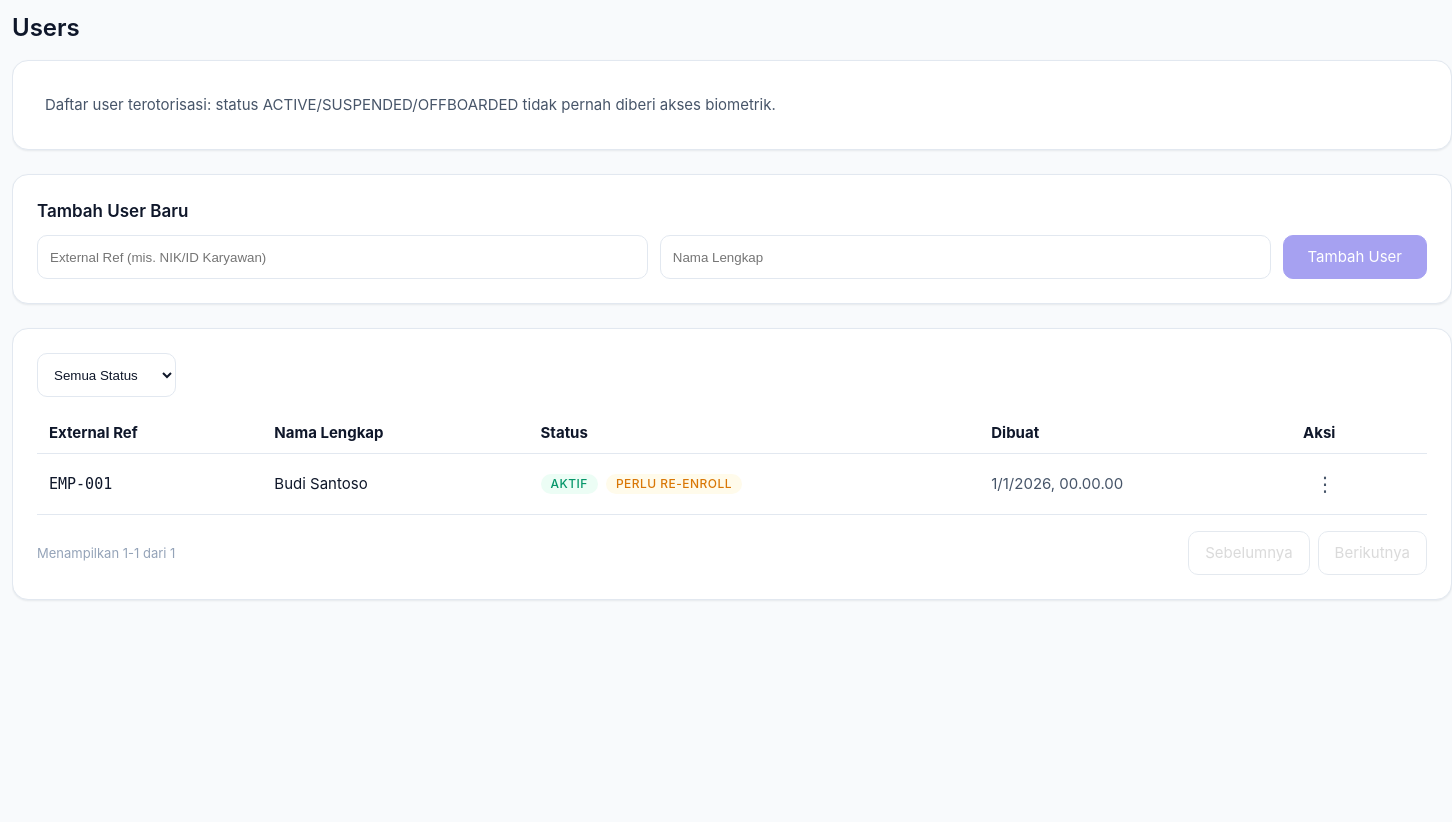
it: UsersPage — reenroll_due badge (EC-FE-03) › labels the enrollment action "Mulai Re-enroll" instead of "Mulai Enrollment" when due
Expected: the text "Budi Santoso" is shown, [262,454,528,514]
Step 1. Click the button named "Aksi lainnya" → (1325, 484), box [1303,462,1347,506]
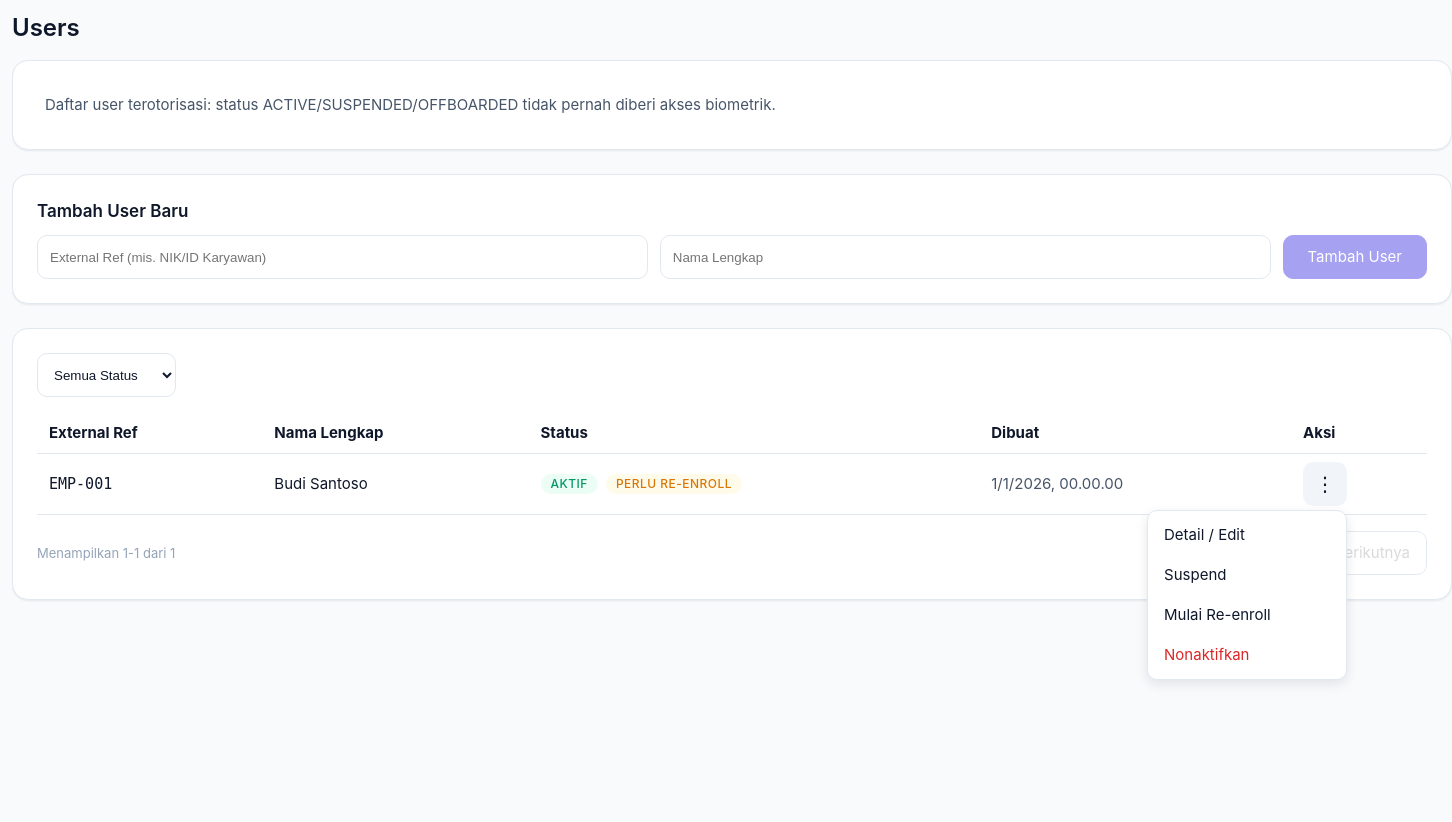
Expected: the menu item "Mulai Re-enroll" is shown, [1152,595,1342,635]
